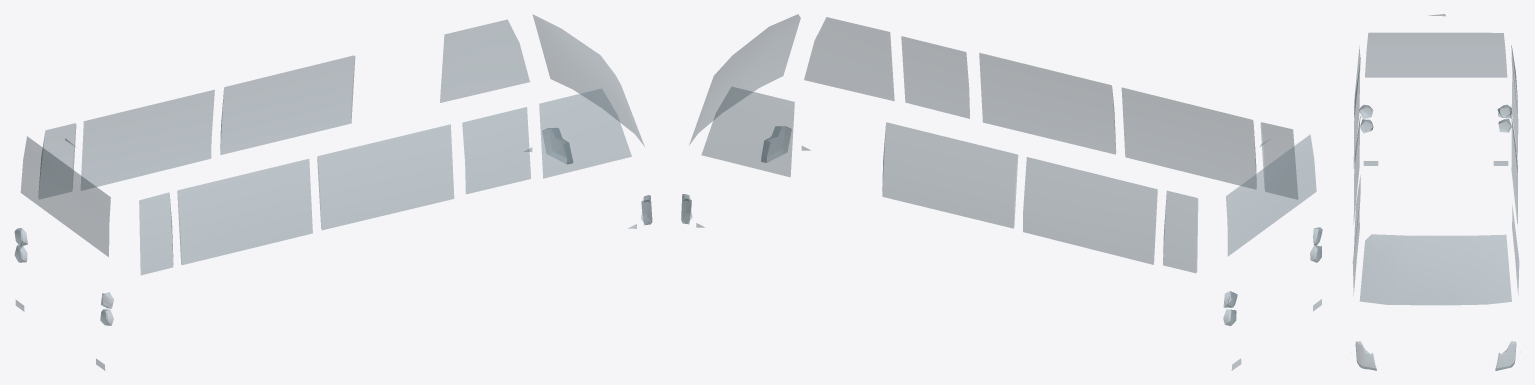
The picture shows the model from 3 angles, left to right: view 1: azimuth 30°, elevation 25°; view 2: azimuth 150°, elevation 25°; view 3: azimuth 270°, elevation 25°; orthographic projection. The views are drawn at different scales.
Visible parts, largest first — view 1: SM_MitsubishiFusoRosa_Glass_Ext1; view 2: SM_MitsubishiFusoRosa_Glass_Ext1; view 3: SM_MitsubishiFusoRosa_Glass_Ext1.
Part boxes in pixels (x1,y1,x2,y2): SM_MitsubishiFusoRosa_Glass_Ext1: (14, 14, 652, 370); SM_MitsubishiFusoRosa_Glass_Ext1: (681, 14, 1322, 370); SM_MitsubishiFusoRosa_Glass_Ext1: (1353, 14, 1518, 370).
Bounding box in the file's own units: 7.94 × 2.67 × 2.62.
